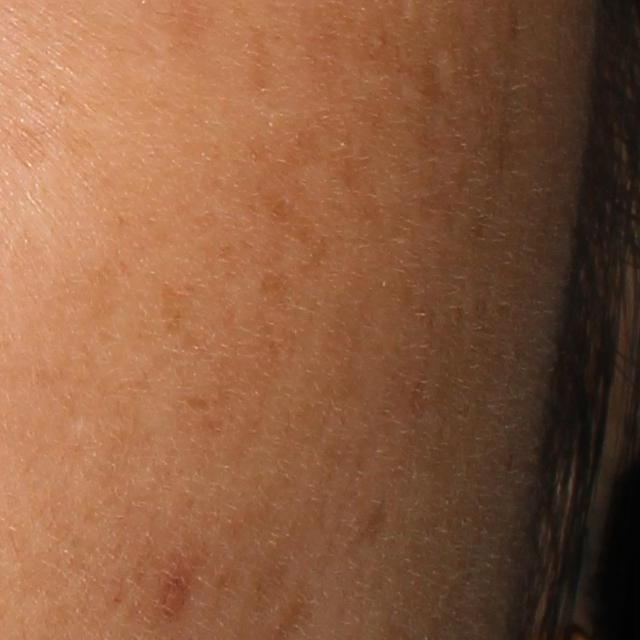melasma: (231, 103, 392, 284), (154, 271, 240, 456), (138, 543, 211, 630), (229, 3, 275, 103), (249, 267, 303, 329), (345, 498, 392, 560)
